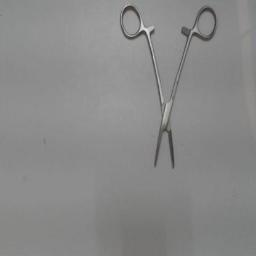Mayo Needle Holder: (116, 2, 220, 174)
